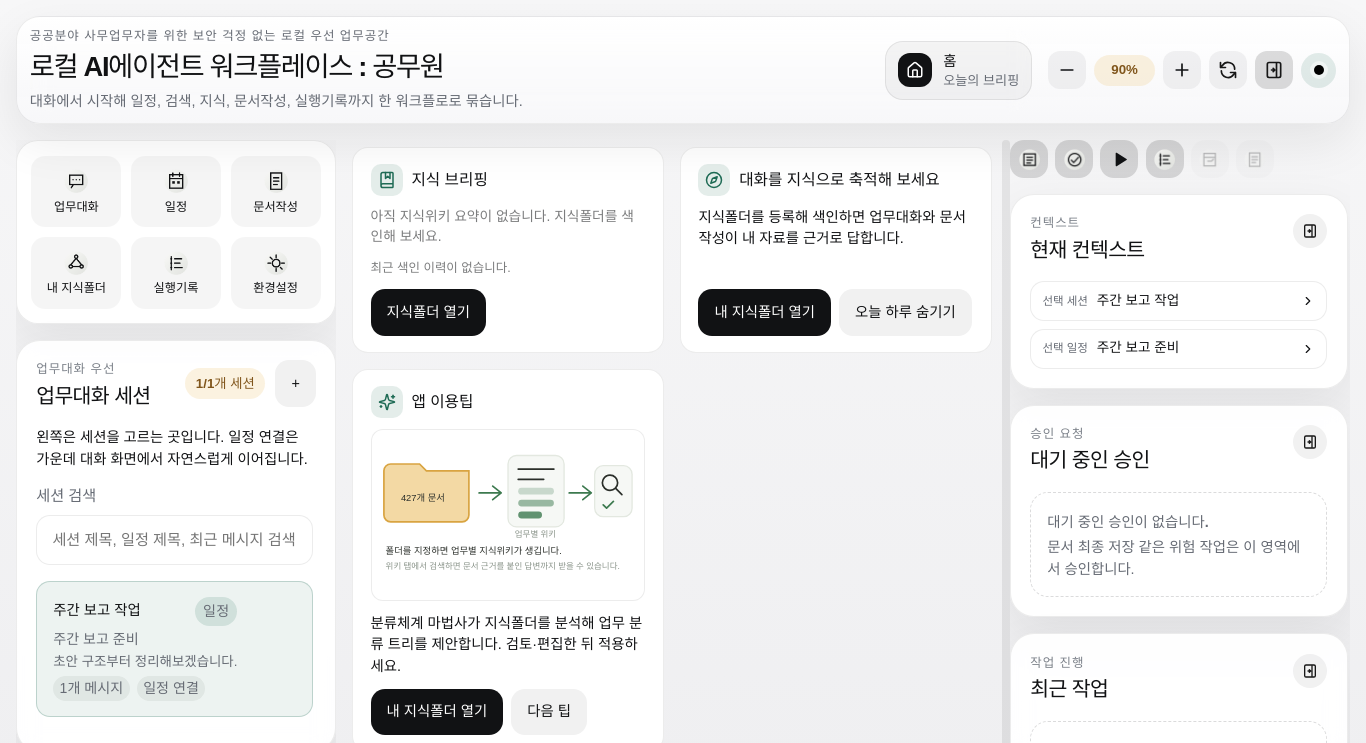
Test: HomeScreen briefing cards (D-06) › rotates the app tips card deterministically and navigates to the tip's menu (W6)
(page scrolled)
# [다음 팁] → 다음 인덱스의 팁으로 넘어간다 (Math.random 없이 결정적).
Click the button with test id "home-tip-next" at [549, 712], box [511,688,587,735]
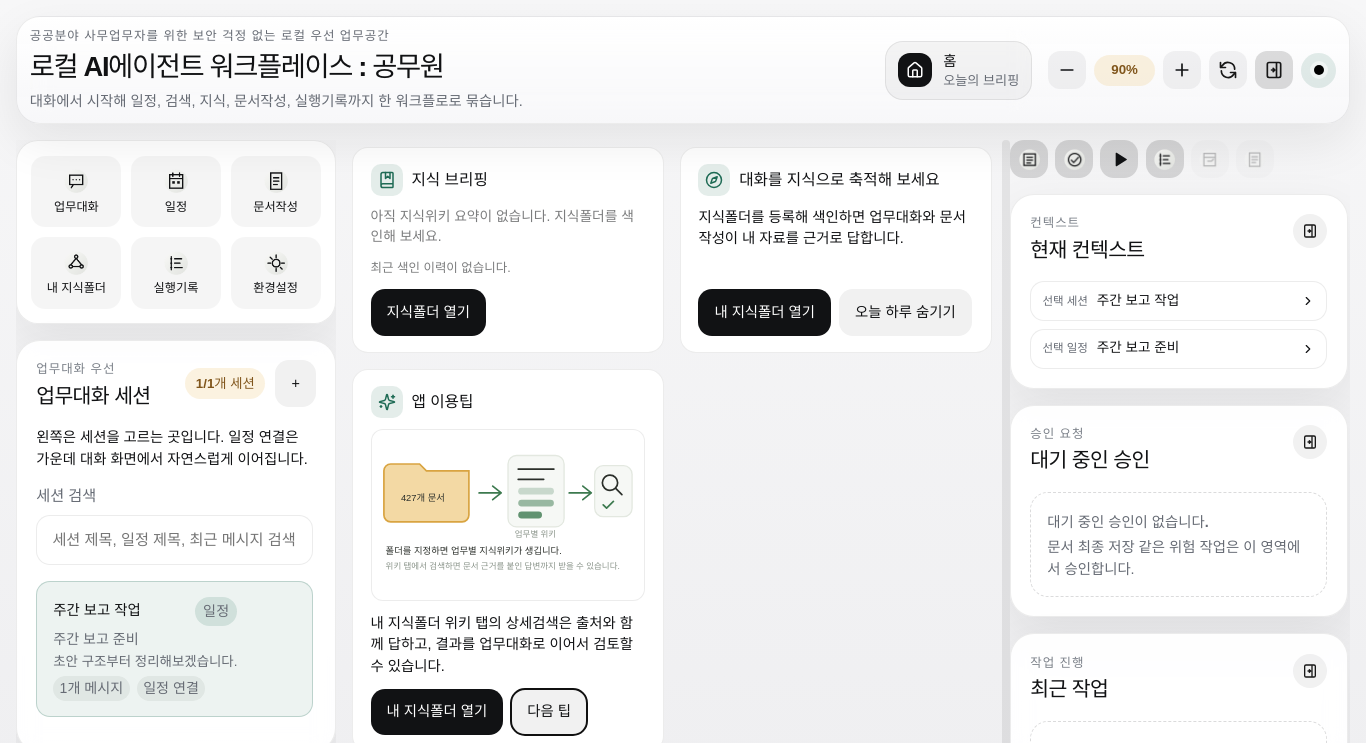
Check: the text with test id "home-tip-text" reads "내 지식폴더 위키 탭의 상세검색은 출처와 함께 답하고, 결과를 업무대화로 이어서 검토할 수 있습니다.", box [371,614,633,674]
Click the button with test id "home-tip-open-menu" at [437, 712], box [371,688,503,735]
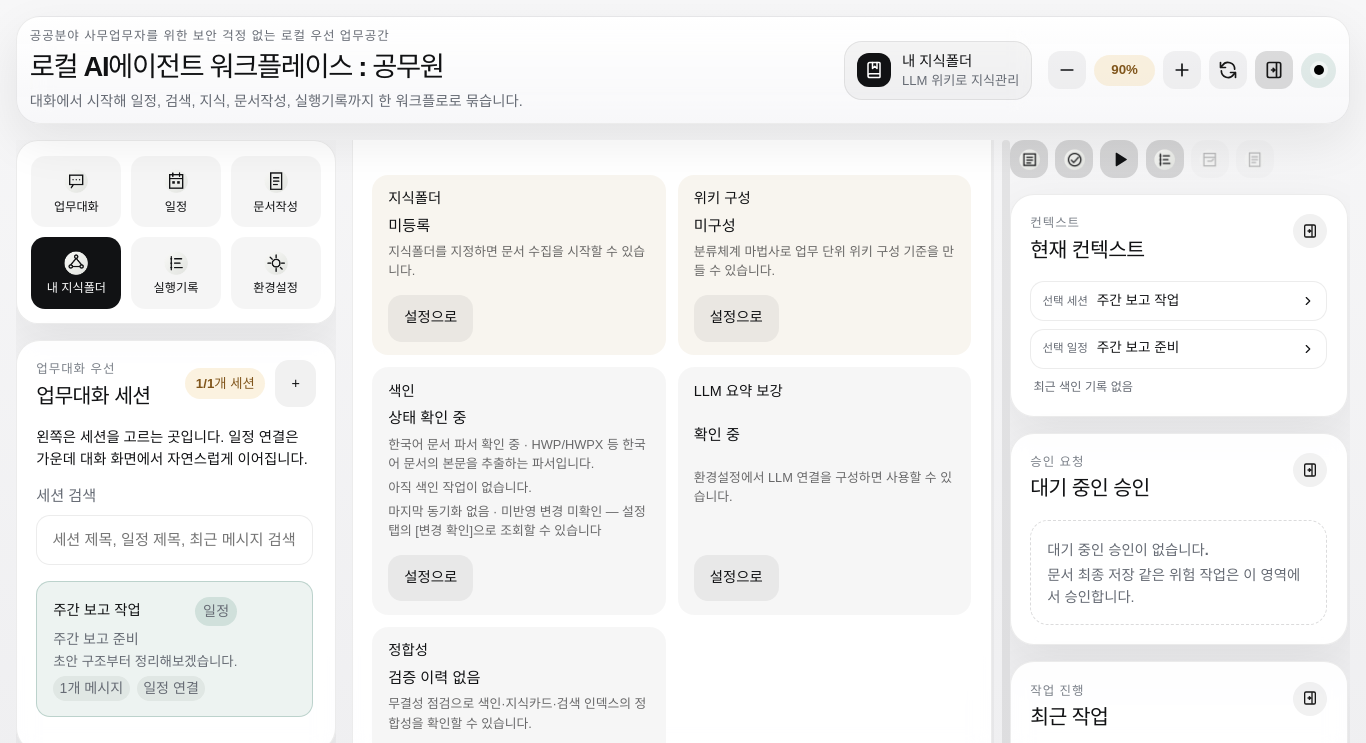
Check: the element with test id "shell-topbar-current" shows "내 지식폴더", box [902,53,972,69]
